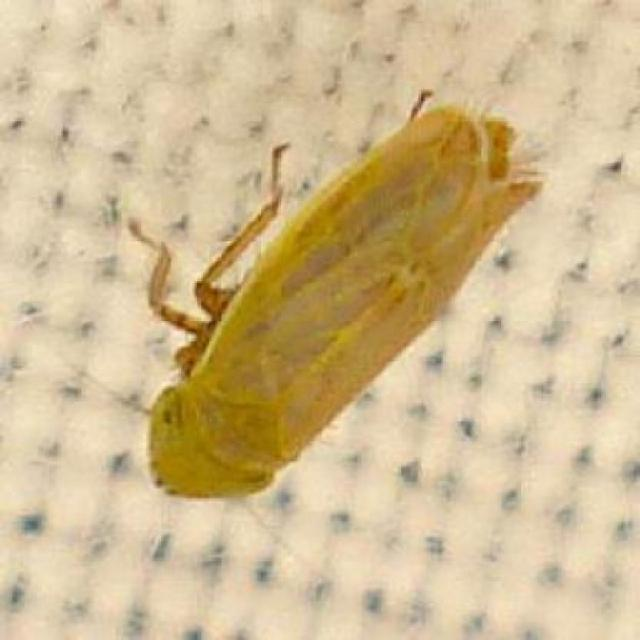green-leafhopper: (130, 96, 533, 502)
